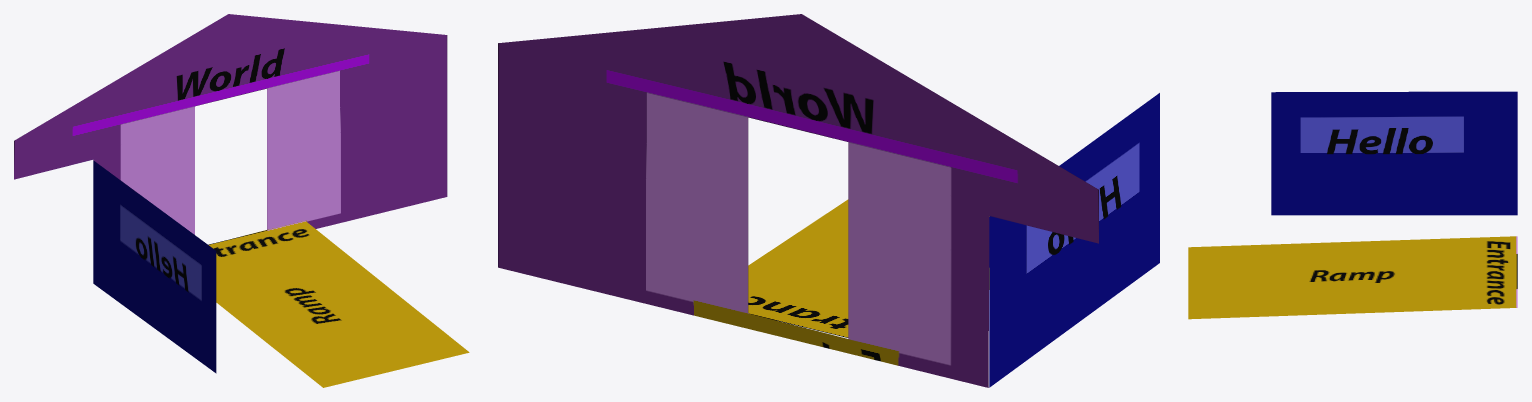
File: FuseUV-LowPoly.fbx
3 views of the same model, side by side, from view 1: azimuth 30°, elevation 25°; view 2: azimuth 150°, elevation 25°; view 3: azimuth 270°, elevation 25° (orthographic). The views are drawn at different scales.
Parts seen in each view (by area): view 1: FuseUV; view 2: FuseUV; view 3: FuseUV.
Part boxes in pixels (left/top/right/bottom): FuseUV: left=14, top=14, right=469, bottom=387; FuseUV: left=498, top=14, right=1159, bottom=387; FuseUV: left=1188, top=91, right=1517, bottom=319.
Size of the model in its own units: 1099 by 574 by 723.
Materials: 1 (1 with a texture image).
